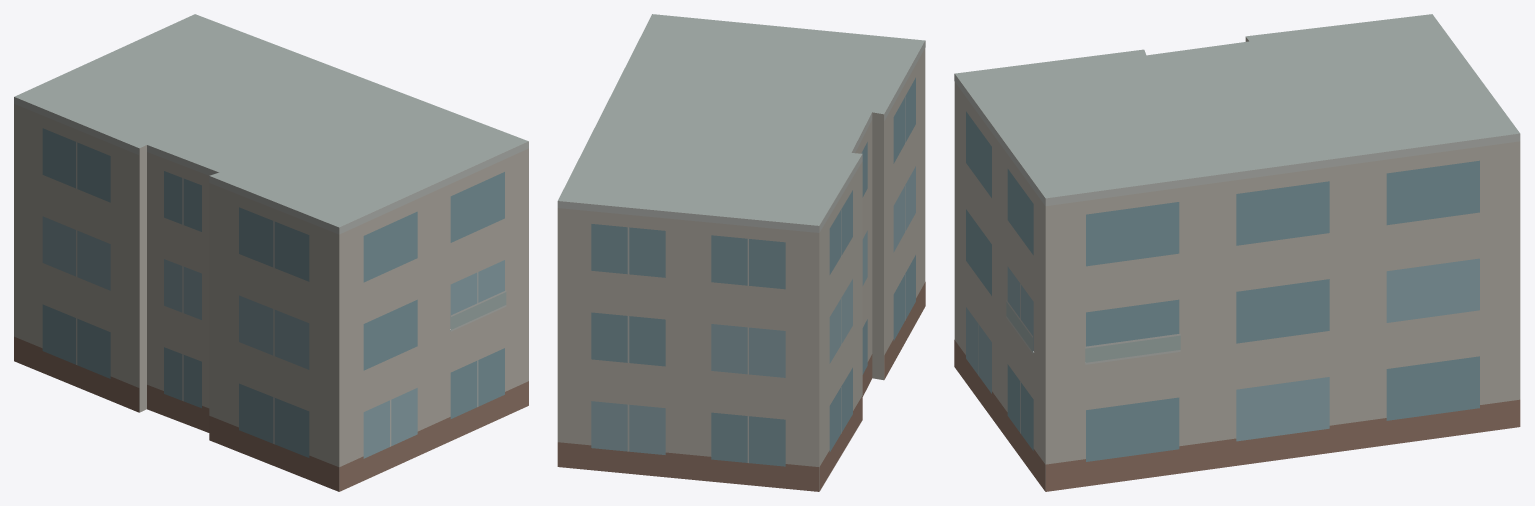
File: survey-upis-32917207.glb
The picture shows the model from 3 angles, left to right: view 1: azimuth 30°, elevation 25°; view 2: azimuth 150°, elevation 25°; view 3: azimuth 270°, elevation 25°; orthographic projection. The views are drawn at different scales.
Visible parts, largest first — view 1: survey-upis-32917207.tmp; view 2: survey-upis-32917207.tmp; view 3: survey-upis-32917207.tmp.
Boxes of the visible parts, <box> form: survey-upis-32917207.tmp: <box>14,14,528,491</box>; survey-upis-32917207.tmp: <box>557,14,925,491</box>; survey-upis-32917207.tmp: <box>954,14,1520,491</box>.
Bounding box in the file's own units: 12.34 × 9.15 × 16.
